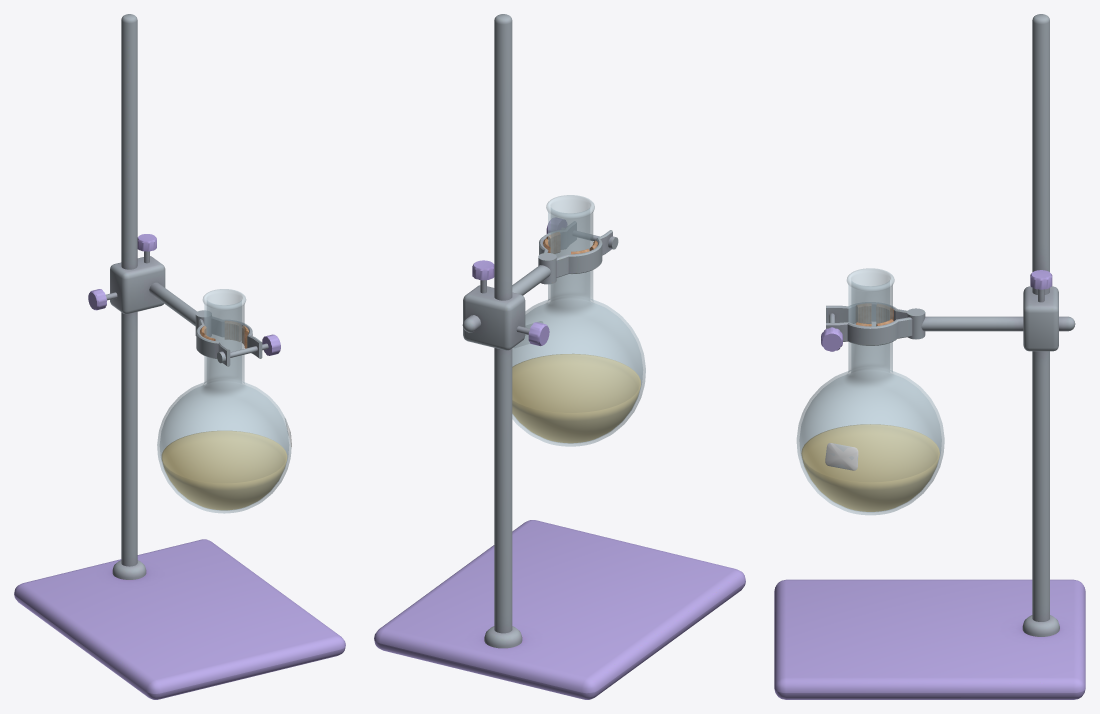
The model's file is retort-stand.glb.
3 views of the same model, side by side, from view 1: azimuth 30°, elevation 25°; view 2: azimuth 150°, elevation 25°; view 3: azimuth 270°, elevation 25° (orthographic). The views are drawn at different scales.
Parts seen in each view (by area): view 1: retort-stand_body, retort-stand_flask_glass, retort-stand_liquid_fluid; view 2: retort-stand_body, retort-stand_flask_glass, retort-stand_liquid_fluid; view 3: retort-stand_body, retort-stand_flask_glass, retort-stand_liquid_fluid.
Boxes of the visible parts, x1,y1,x2,y2 form: retort-stand_body: (14, 14, 345, 699); retort-stand_flask_glass: (157, 289, 291, 513); retort-stand_liquid_fluid: (161, 430, 287, 510); retort-stand_body: (374, 14, 745, 699); retort-stand_flask_glass: (512, 195, 645, 446); retort-stand_liquid_fluid: (512, 353, 640, 443); retort-stand_body: (774, 14, 1085, 699); retort-stand_flask_glass: (796, 268, 944, 515); retort-stand_liquid_fluid: (801, 424, 939, 511).
Bounding box in the file's own units: 0.17 × 0.472 × 0.21.
3 materials, 1 textured.
